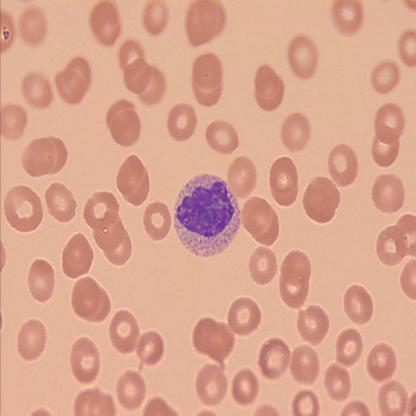Metamyelocyte: (172, 170, 242, 260)
